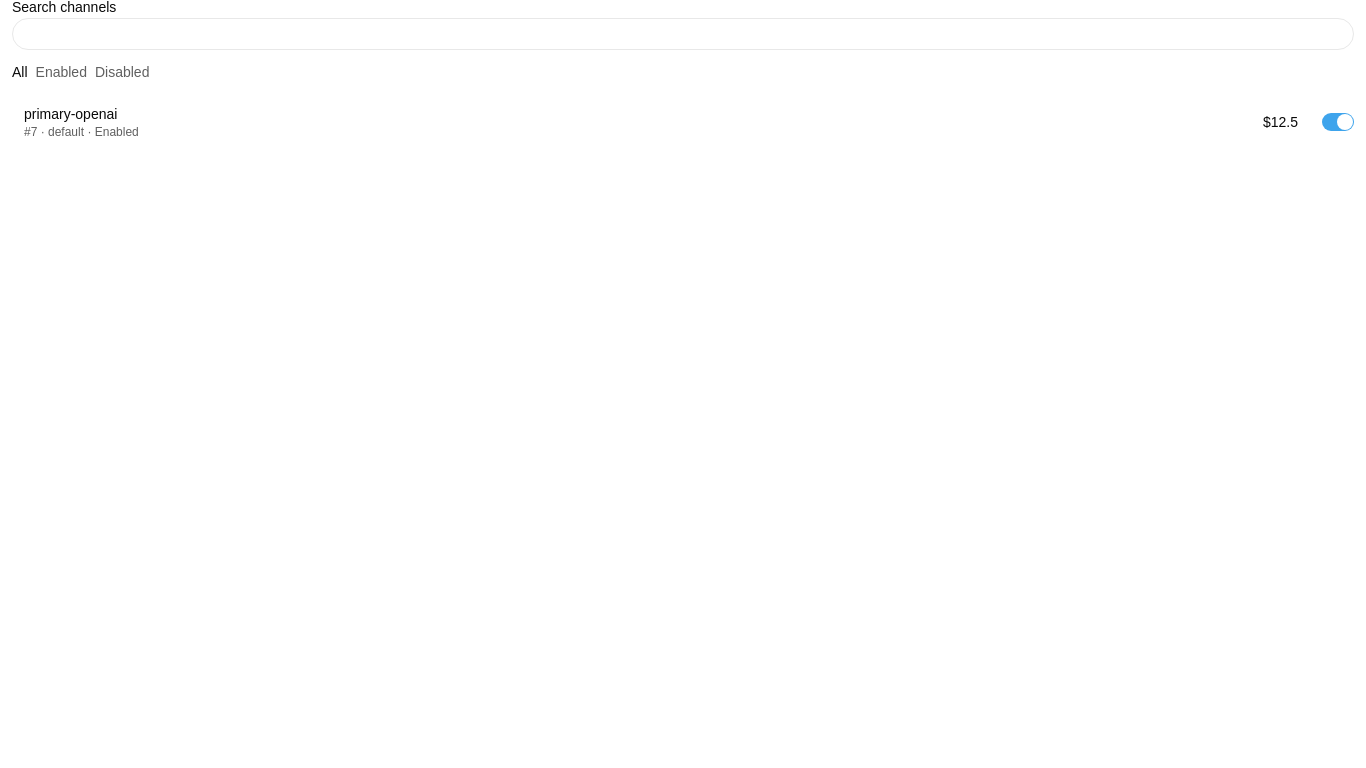
Test case: ChannelsPage › asks for a new token when the write is rejected with 401
expect the text "primary-openai" is shown: met, box [24,106,117,122]
Click the switch named "Enabled primary-openai". click: point(1338, 122)
box: [1322,113,1354,131]
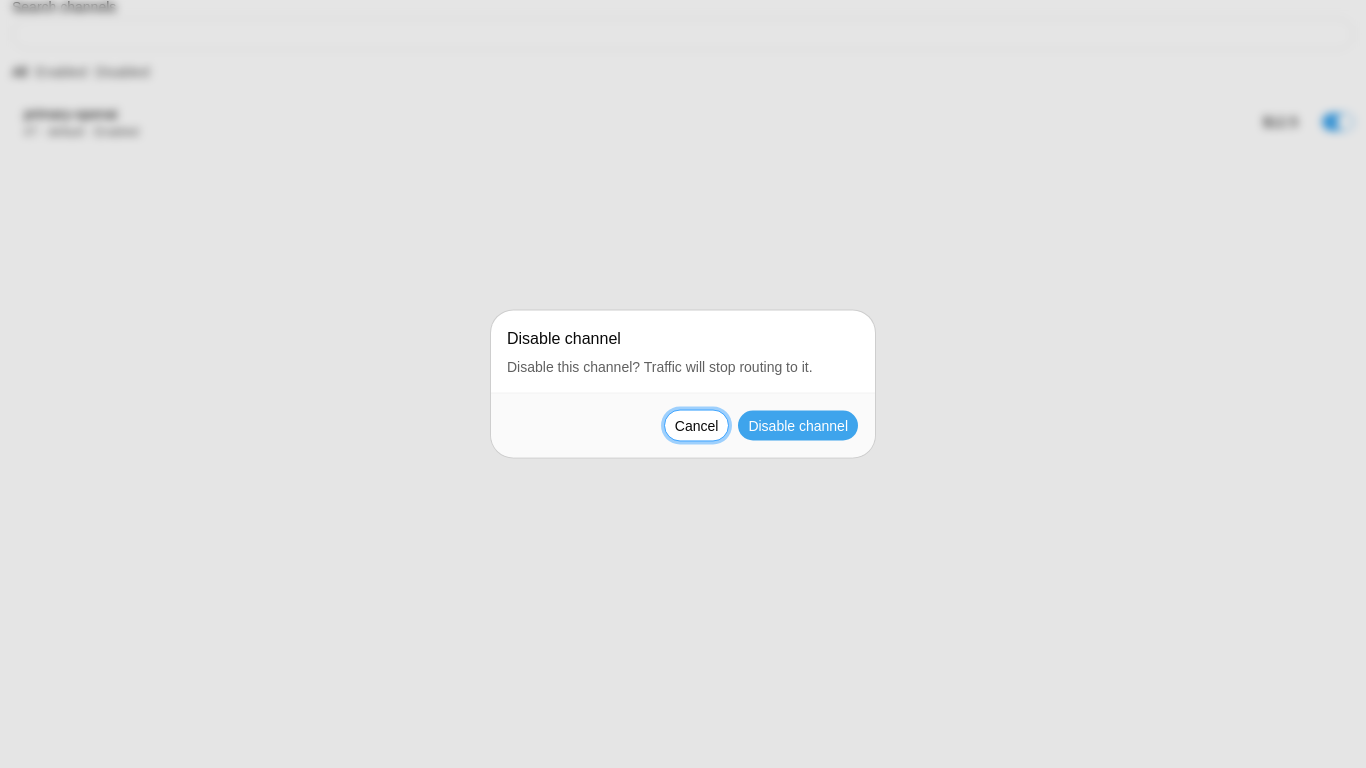
Click the button "Disable channel". click: point(798, 426)
box: [737,410,859,442]
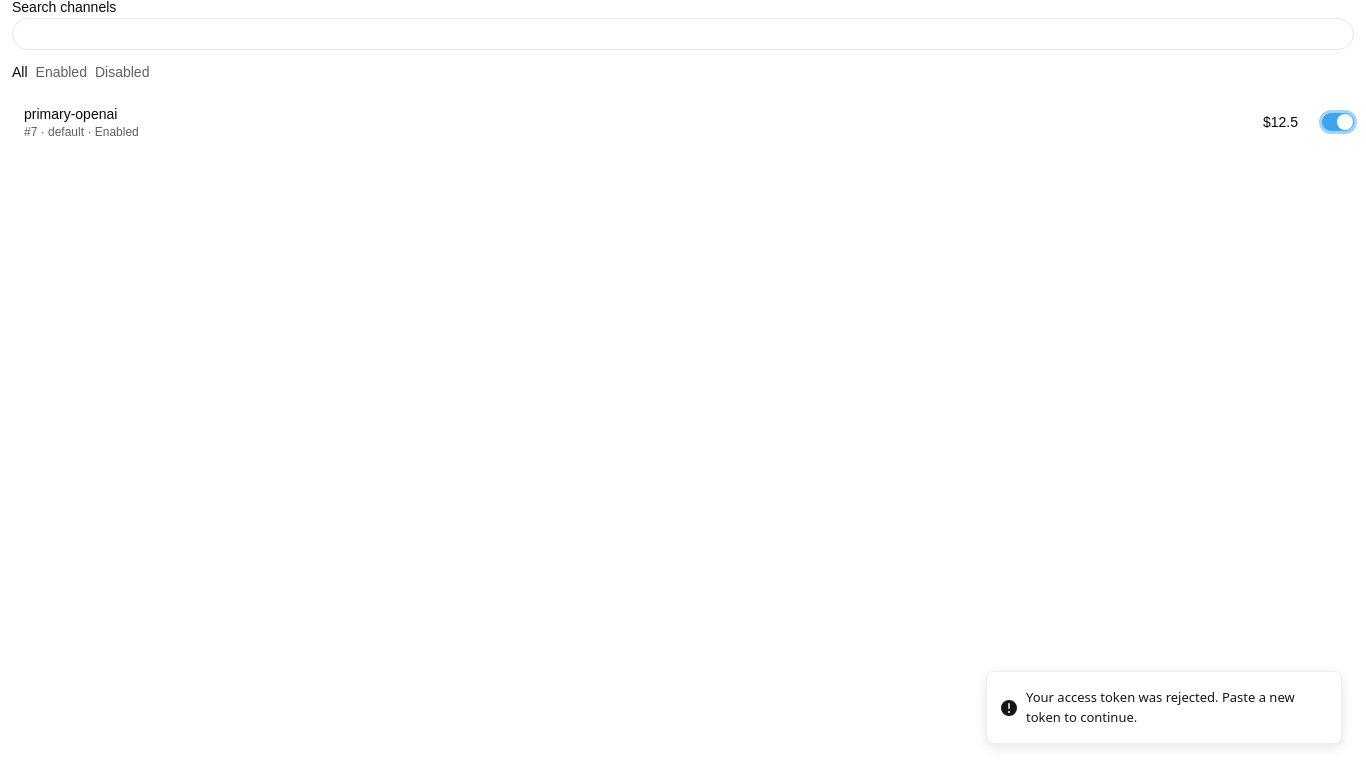
expect the text "Your access token was rejected. Paste a new token to continue." is shown: met, box [1026,688,1325,727]
